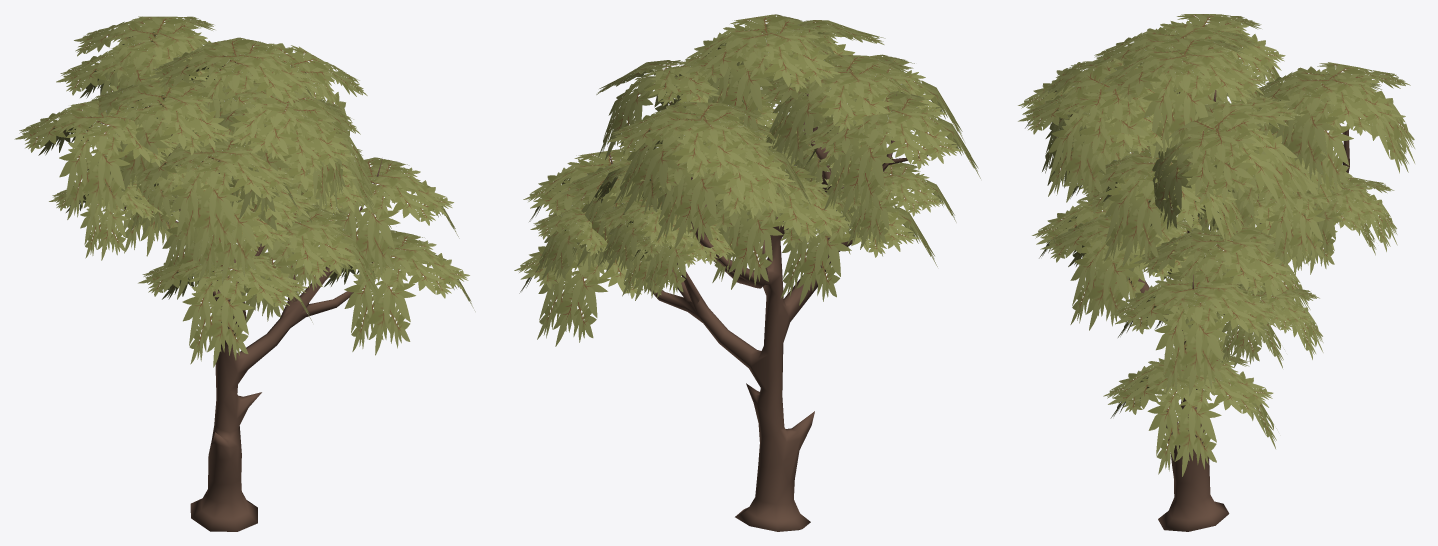
Rendered from chilco2.fbx.
3 views of the same model, side by side, from view 1: azimuth 30°, elevation 25°; view 2: azimuth 150°, elevation 25°; view 3: azimuth 270°, elevation 25° (orthographic). The views are drawn at different scales.
Visible parts, largest first — view 1: Chilco2; view 2: Chilco2; view 3: Chilco2.
Boxes of the visible parts, x1,y1,x2,y2 form: Chilco2: (14, 16, 475, 531); Chilco2: (514, 14, 980, 531); Chilco2: (1018, 14, 1414, 531).
Size of the model in its own units: 607 by 623 by 487.
